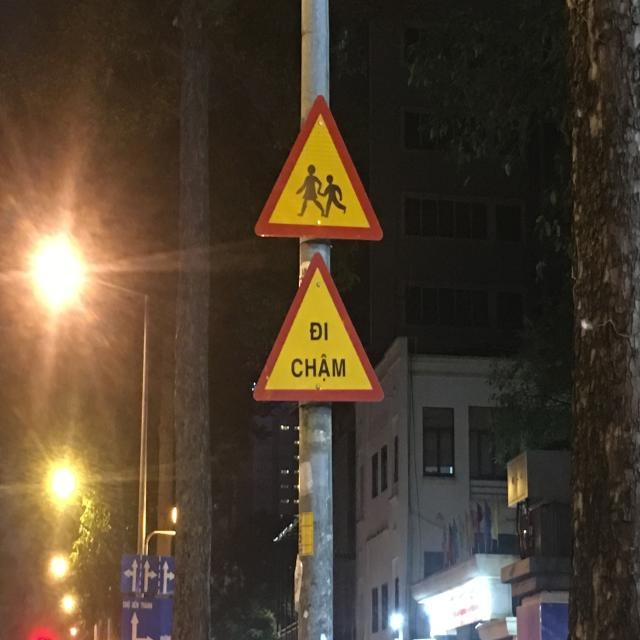bien_nguy_hiem: (252, 256, 385, 401), (254, 96, 386, 241)
